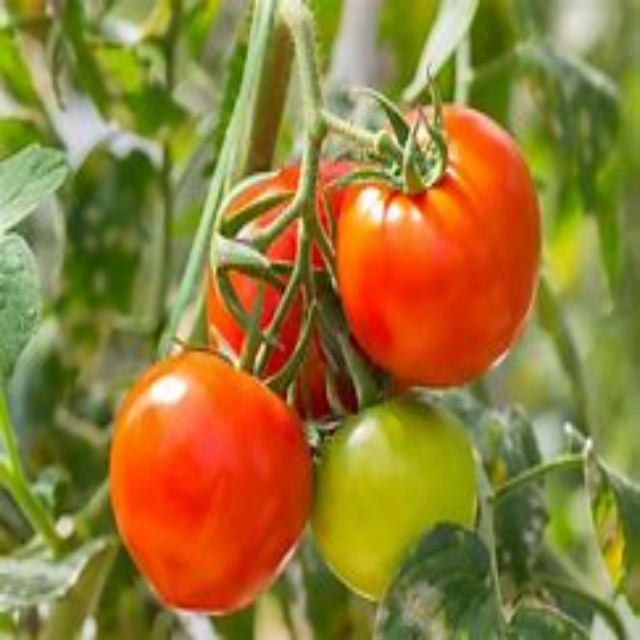tomato: (332, 102, 546, 393), (93, 357, 325, 615), (195, 164, 391, 425), (303, 390, 473, 600)
